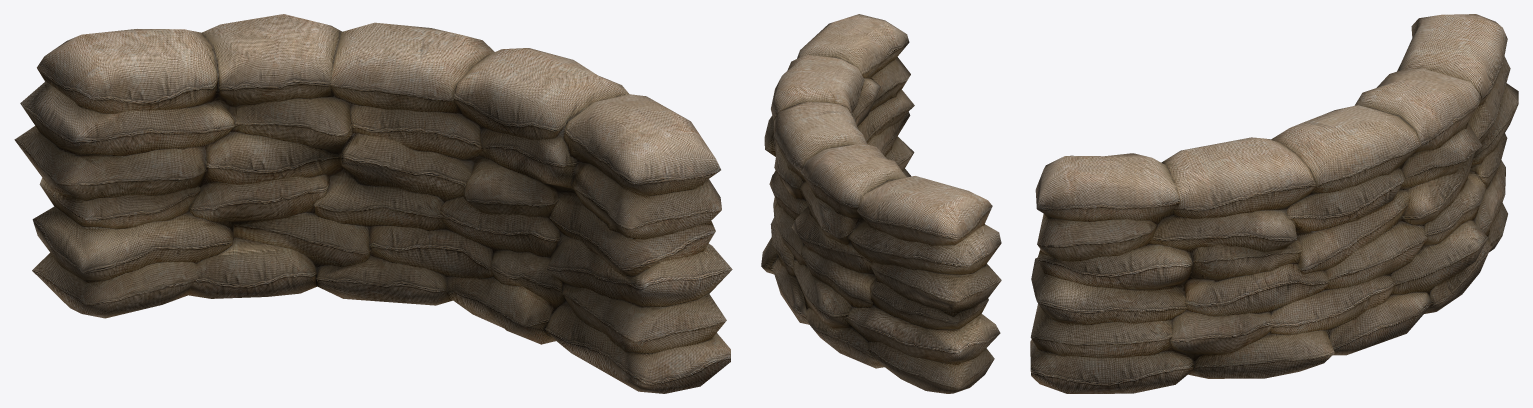
File: Sandbags_3.fbx
3 renders of one model, left to right at view 1: azimuth 30°, elevation 25°; view 2: azimuth 150°, elevation 25°; view 3: azimuth 270°, elevation 25°, orthographic. The views are drawn at different scales.
Visible parts, largest first — view 1: polySurface222; view 2: polySurface222; view 3: polySurface222.
Boxes of the visible parts, bbox=[...] form: polySurface222: bbox=[14, 14, 732, 393]; polySurface222: bbox=[761, 14, 1001, 393]; polySurface222: bbox=[1030, 14, 1518, 393].
Bounding box in the file's own units: 2.16 × 1.19 × 2.35.
